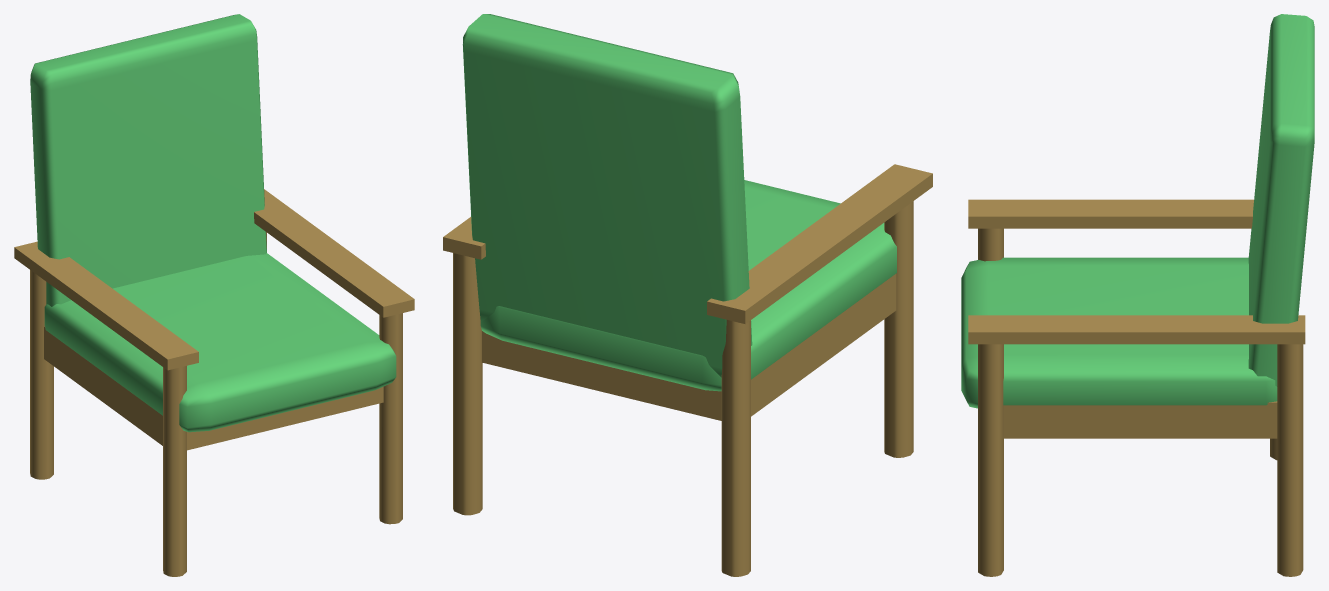
The model's file is chair.fbx.
3 renders of one model, left to right at view 1: azimuth 30°, elevation 25°; view 2: azimuth 150°, elevation 25°; view 3: azimuth 270°, elevation 25°, orthographic. The views are drawn at different scales.
Parts seen in each view (by area): view 1: chair; view 2: chair; view 3: chair.
Part boxes in pixels (x1,y1,x2,y2): chair: (14, 14, 414, 576); chair: (443, 14, 932, 576); chair: (961, 14, 1314, 576).
Bounding box in the file's own units: 5.92 × 9.24 × 6.68.
